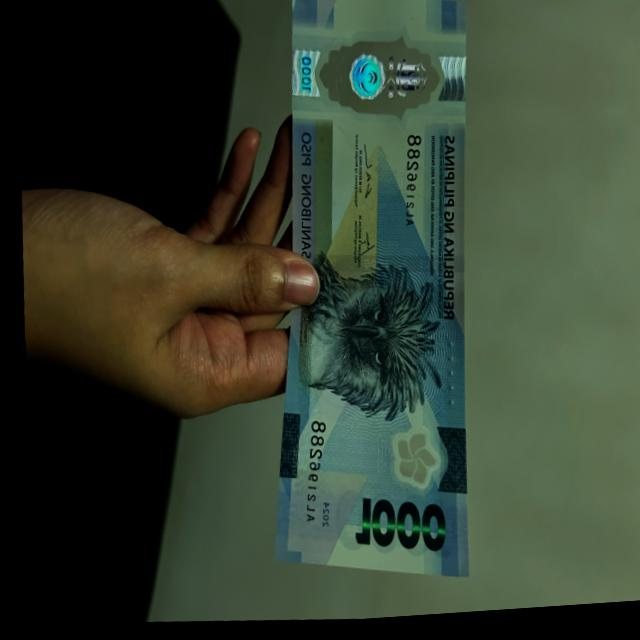clear_window: (306, 23, 446, 135)
eagle: (284, 248, 443, 429)
sampaguita: (381, 436, 433, 494)
